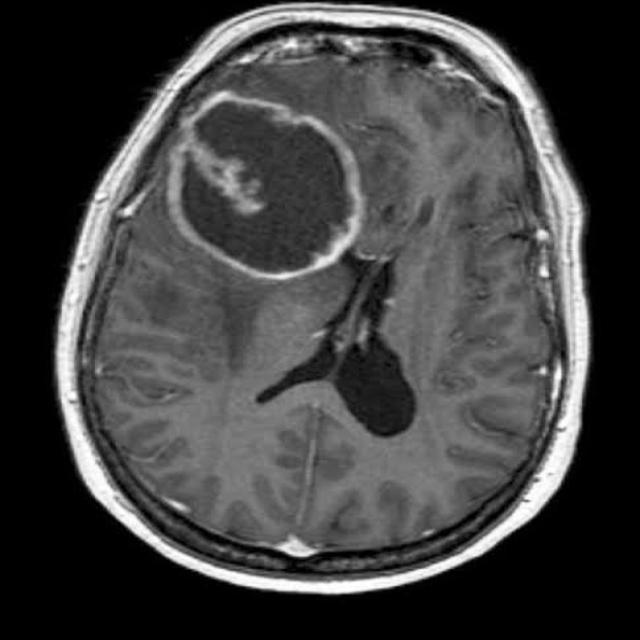tumor: (167, 94, 359, 275)
